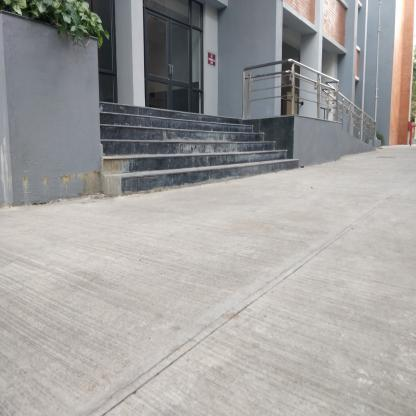stairs: (111, 107, 241, 199)
